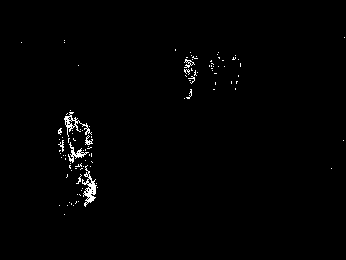person: (56, 110, 98, 208), (184, 52, 199, 101)
